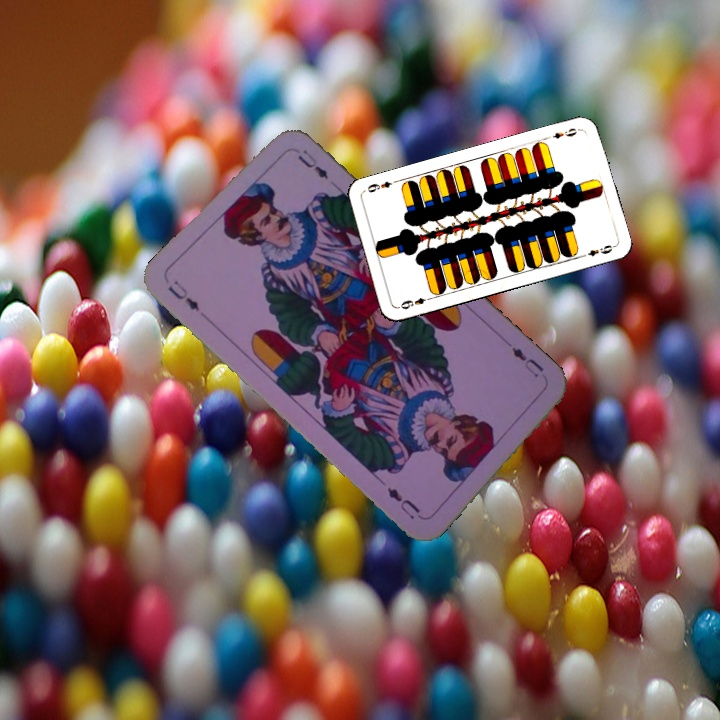E9: (397, 293, 435, 312), (549, 124, 583, 142)
EU: (507, 342, 547, 381), (163, 276, 203, 314)
